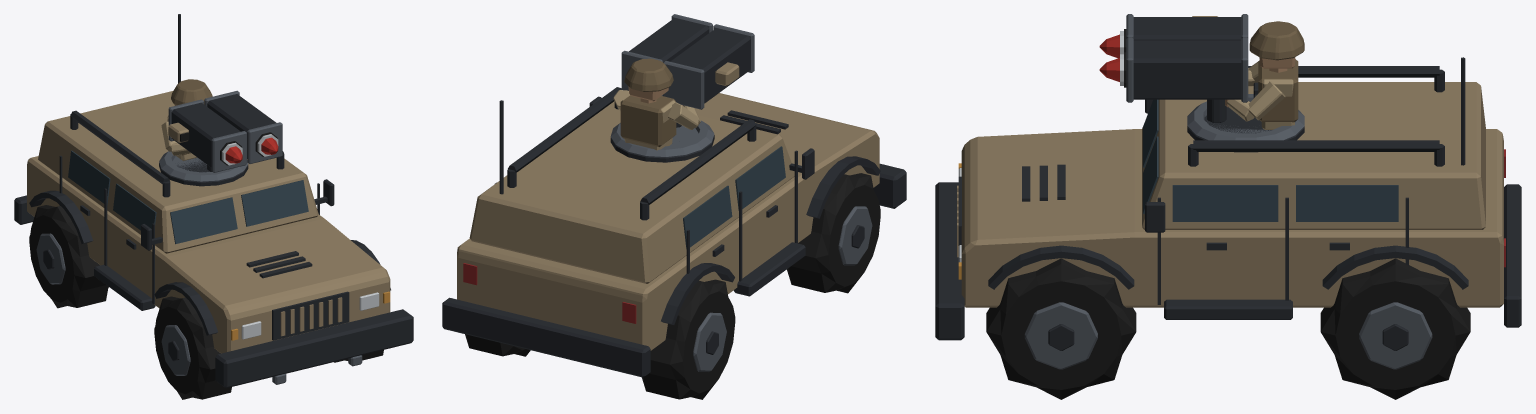
Rendered from patrulla-misiles.glb.
The picture shows the model from 3 angles, left to right: view 1: azimuth 30°, elevation 25°; view 2: azimuth 150°, elevation 25°; view 3: azimuth 270°, elevation 25°; orthographic projection. The views are drawn at different scales.
Parts seen in each view (by area): view 1: casco, gun_pitch, wheel_LB, wheel_LF, turret_yaw, rocket_02, rocket_01; view 2: casco, gun_pitch, wheel_LB, wheel_LF, turret_yaw, wheel_RB; view 3: casco, wheel_RF, wheel_RB, gun_pitch, turret_yaw.
Boxes of the visible parts, left/top/right/bottom form: casco: left=14, top=14, right=413, bottom=388; gun_pitch: left=168, top=90, right=282, bottom=172; wheel_LB: left=29, top=205, right=108, bottom=308; wheel_LF: left=154, top=296, right=231, bottom=399; turret_yaw: left=159, top=79, right=248, bottom=186; rocket_02: left=257, top=134, right=278, bottom=156; rocket_01: left=222, top=142, right=242, bottom=165; casco: left=442, top=87, right=906, bottom=377; gun_pitch: left=621, top=14, right=754, bottom=109; wheel_LB: left=642, top=279, right=735, bottom=399; wheel_LF: left=787, top=173, right=880, bottom=293; turret_yaw: left=610, top=58, right=714, bottom=162; wheel_RB: left=465, top=334, right=530, bottom=356; casco: left=935, top=57, right=1521, bottom=340; wheel_RF: left=986, top=258, right=1136, bottom=399; wheel_RB: left=1320, top=258, right=1470, bottom=399; gun_pitch: left=1124, top=14, right=1248, bottom=102; turret_yaw: left=1187, top=21, right=1304, bottom=152.
Bounding box in the file's own units: 0.527 × 0.602 × 1.
